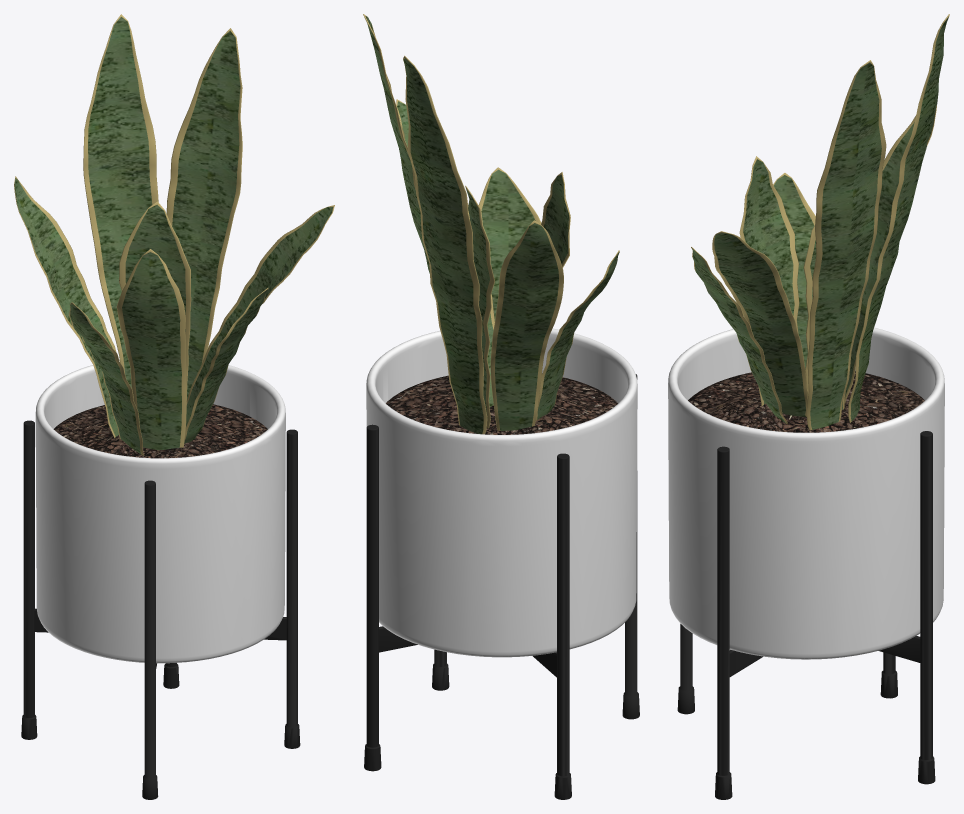
The model's file is floor_plant.glb.
3 views of the same model, side by side, from view 1: azimuth 30°, elevation 25°; view 2: azimuth 150°, elevation 25°; view 3: azimuth 270°, elevation 25° (orthographic). The views are drawn at different scales.
Parts seen in each view (by area): view 1: plant_border, pot, frame, mud; view 2: pot, plant_border, frame, mud; view 3: pot, plant_border, frame, mud.
Boxes of the visible parts, box(x1,y1,x2,y2) form: plant_border: box(14, 14, 334, 455); pot: box(35, 359, 285, 663); frame: box(21, 420, 300, 799); mud: box(53, 404, 267, 458); pot: box(366, 328, 637, 657); plant_border: box(363, 14, 619, 434); frame: box(364, 374, 639, 799); mud: box(386, 373, 617, 434); pot: box(668, 327, 944, 659); plant_border: box(691, 14, 949, 430); frame: box(677, 431, 935, 799); mud: box(688, 371, 924, 432).
Size of the model in its own units: 0.3312 by 0.8739 by 0.2994.
Materials: 5 (2 with a texture image).
